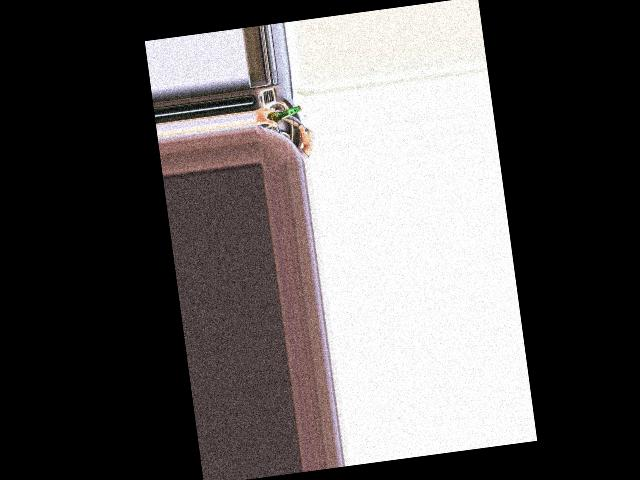beer: (254, 104, 303, 130)
